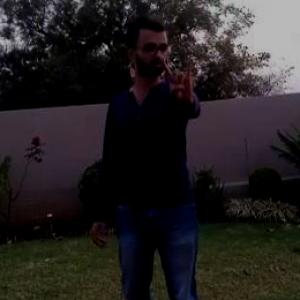takeoff-hand: (147, 50, 203, 113)
